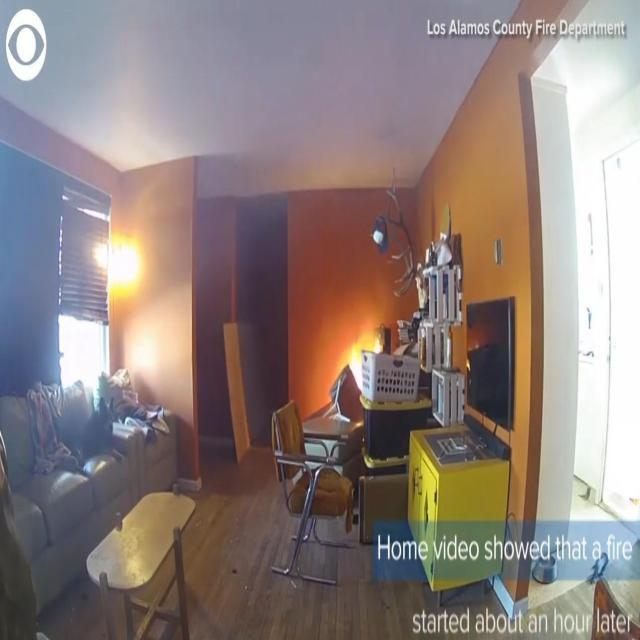smoke: (344, 328, 380, 395)
